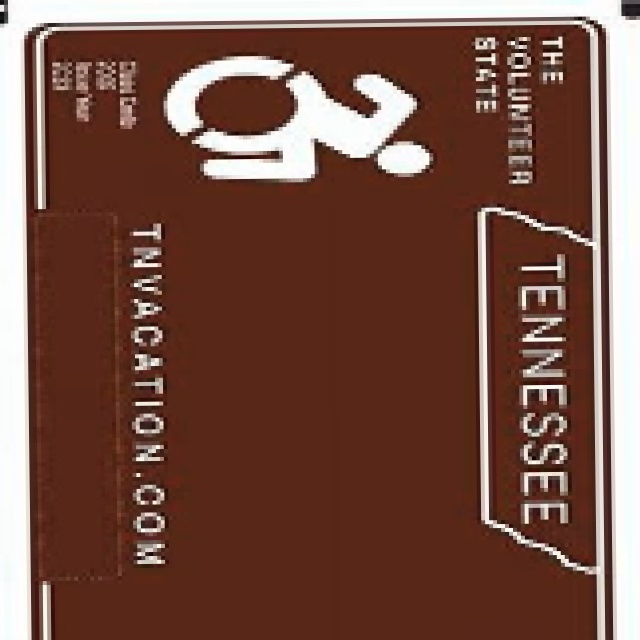ISA: (164, 52, 432, 184)
